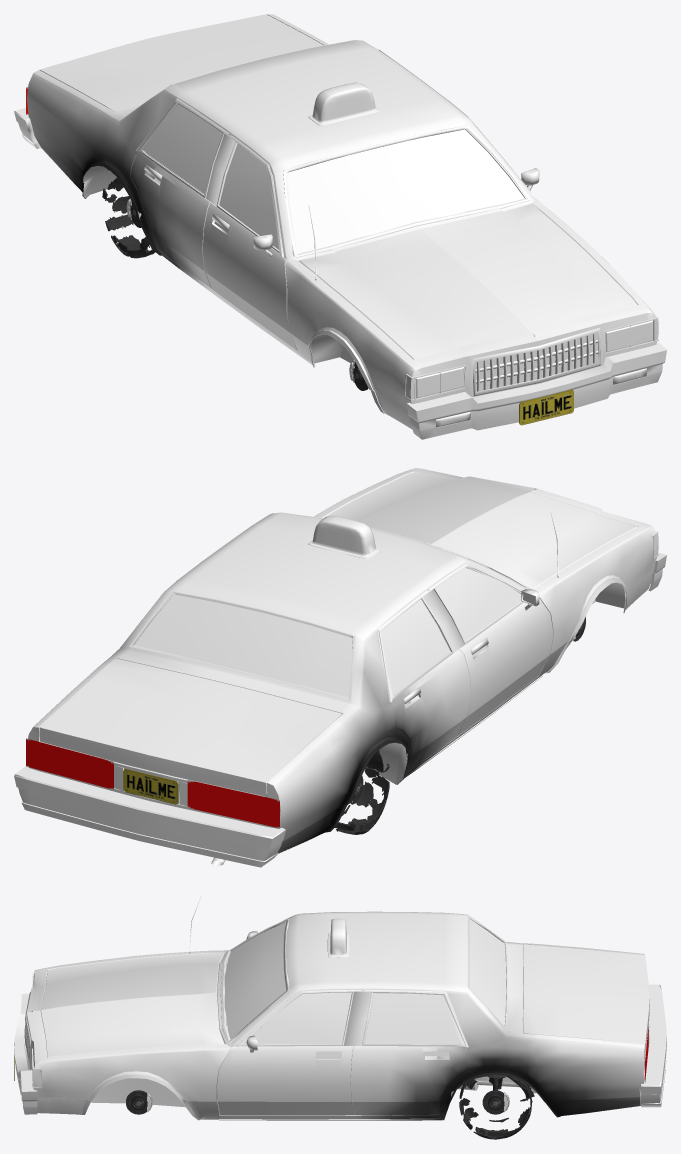
File: 15_Taxi.fbx
3 views of the same model, one above another, from view 1: azimuth 30°, elevation 25°; view 2: azimuth 150°, elevation 25°; view 3: azimuth 270°, elevation 25° (orthographic). The views are drawn at different scales.
Visible parts, largest first — view 1: Body_Duco, Body_Glass, Body_Chrome, Body_Glossy, Body_Matte, NumberPlate (1); view 2: Body_Duco, Body_Glass, Body_Chrome, BrakeLights, Body_Glossy, Body_Matte, NumberPlate; view 3: Body_Duco, Body_Glass, Body_Chrome, Body_Matte, Body_Glossy, Rotor (×2).
Boxes of the visible parts, left/top/right/bottom form: Body_Duco: left=26, top=14, right=656, bottom=429; Body_Glass: left=144, top=105, right=524, bottom=253; Body_Chrome: left=14, top=40, right=666, bottom=439; Body_Glossy: left=308, top=82, right=658, bottom=427; Body_Matte: left=42, top=137, right=598, bottom=429; NumberPlate (1): left=519, top=389, right=573, bottom=425; Body_Duco: left=28, top=468, right=656, bottom=853; Body_Glass: left=134, top=568, right=521, bottom=697; Body_Chrome: left=14, top=512, right=666, bottom=867; BrakeLights: left=26, top=738, right=279, bottom=828; Body_Glossy: left=114, top=515, right=658, bottom=806; Body_Matte: left=178, top=566, right=646, bottom=865; NumberPlate: left=123, top=769, right=178, bottom=804; Body_Duco: left=26, top=911, right=649, bottom=1119; Body_Glass: left=224, top=919, right=504, bottom=1044; Body_Chrome: left=14, top=896, right=666, bottom=1120; Body_Matte: left=37, top=927, right=536, bottom=1117; Body_Glossy: left=32, top=918, right=644, bottom=1087; Rotor (×2): left=126, top=1090, right=506, bottom=1114.
Size of what is drawn, in the model's own units: 2.14 by 1.52 by 5.32.
